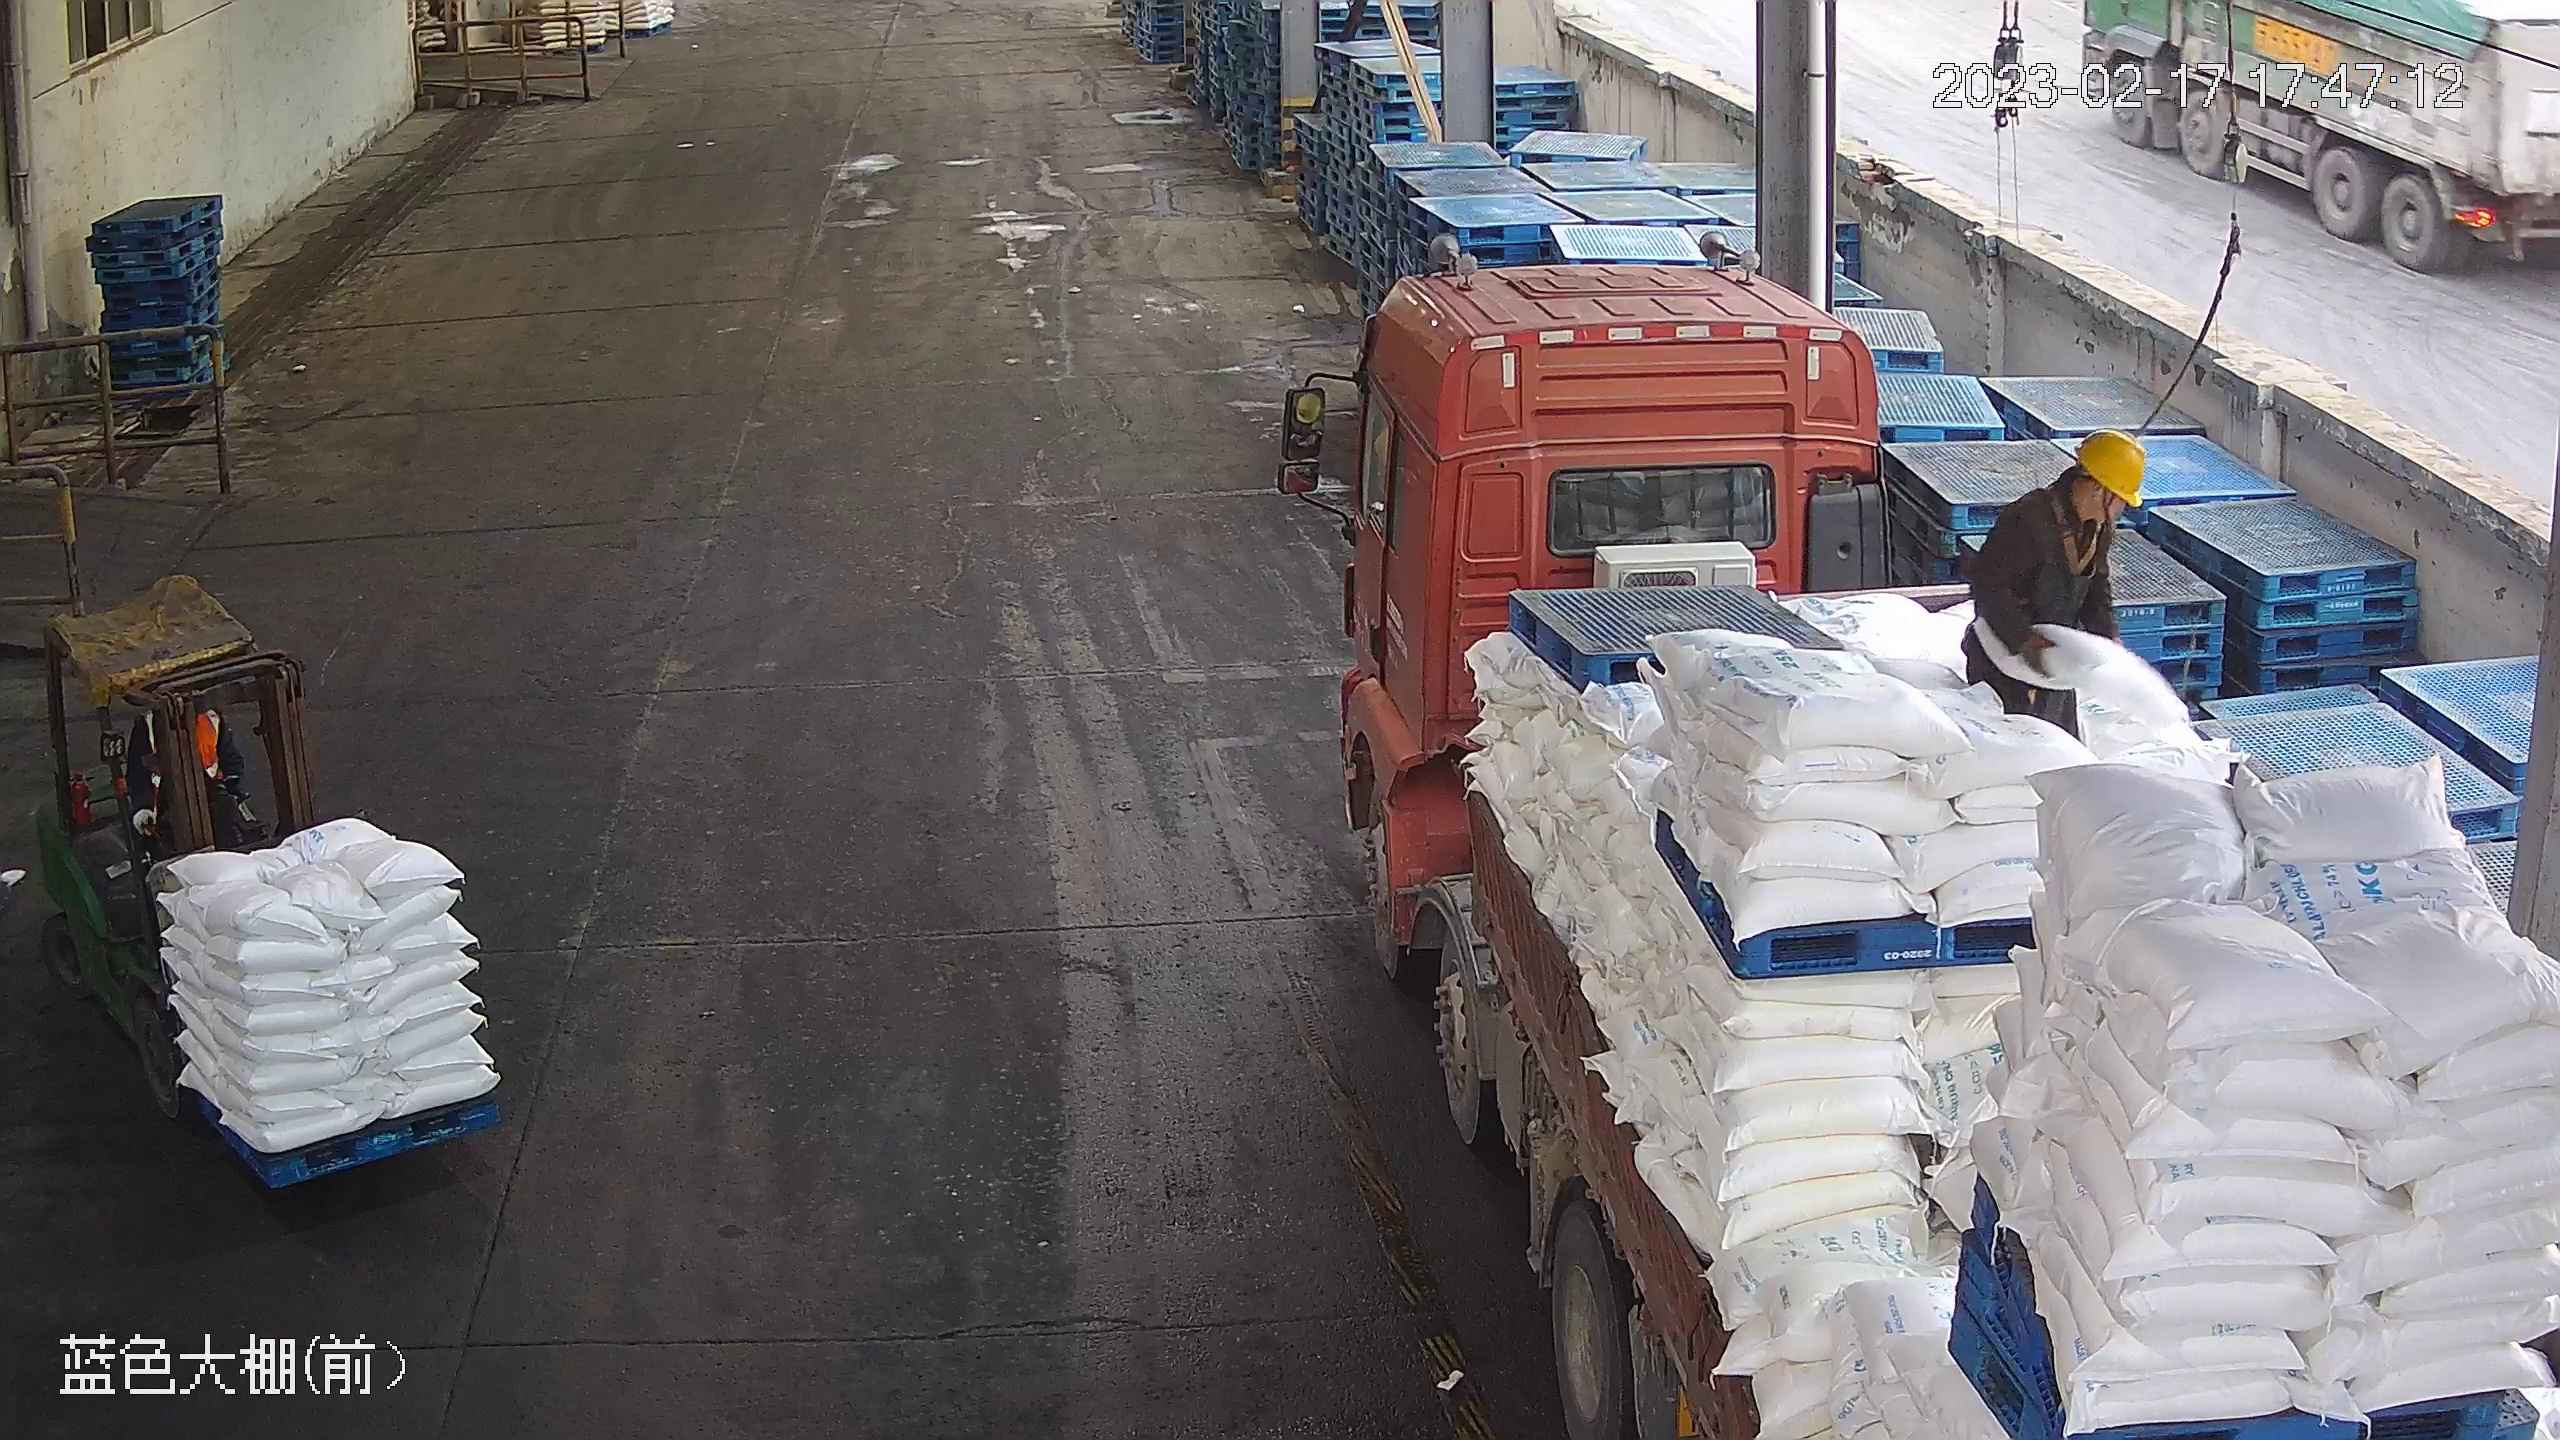belt: (2031, 482, 2114, 579)
head: (2001, 425, 2149, 551), (2056, 425, 2148, 511)
helmet: (2069, 425, 2147, 506)
people: (1961, 428, 2149, 743)
truck: (1281, 265, 2559, 1439)
